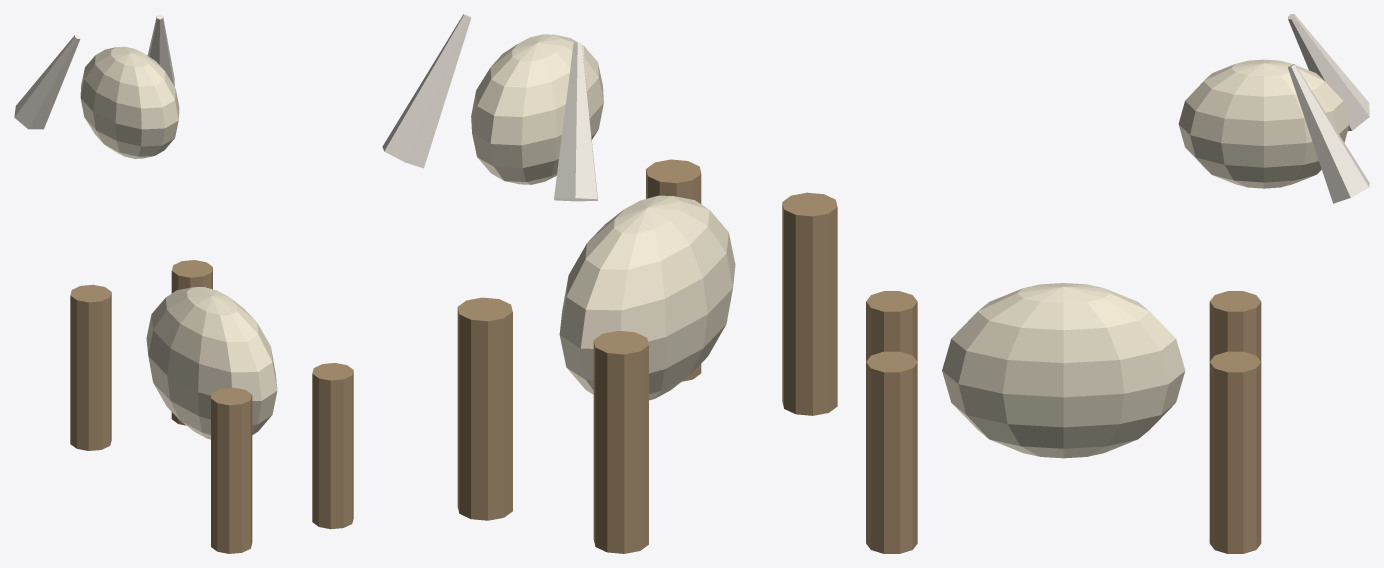
File: domba.glb
The picture shows the model from 3 angles, left to right: view 1: azimuth 30°, elevation 25°; view 2: azimuth 150°, elevation 25°; view 3: azimuth 270°, elevation 25°; orthographic projection. The views are drawn at different scales.
Parts seen in each view (by area): view 1: domba_body, domba_head, domba_leg_FL, domba_leg_BR, domba_leg_BL, domba_tanduk_kanan, domba_leg_FR, domba_tanduk_kiri; view 2: domba_body, domba_head, domba_leg_FR, domba_leg_BL, domba_leg_FL, domba_tanduk_kiri, domba_tanduk_kanan, domba_leg_BR; view 3: domba_body, domba_head, domba_leg_FR, domba_leg_BR, domba_tanduk_kiri, domba_leg_FL, domba_leg_BL, domba_tanduk_kanan.
Boxes of the visible parts, x1,y1,x2,y2 form: domba_body: [146, 287, 277, 439]; domba_head: [80, 46, 179, 158]; domba_leg_FL: [70, 284, 111, 450]; domba_leg_BR: [312, 363, 353, 529]; domba_leg_BL: [211, 387, 252, 553]; domba_tanduk_kanan: [14, 34, 80, 129]; domba_leg_FR: [171, 260, 212, 425]; domba_tanduk_kiri: [147, 14, 174, 86]; domba_body: [559, 195, 735, 400]; domba_head: [471, 34, 603, 184]; domba_leg_FR: [457, 297, 512, 520]; domba_leg_BL: [782, 192, 837, 415]; domba_leg_FL: [593, 330, 648, 553]; domba_tanduk_kiri: [382, 14, 471, 168]; domba_tanduk_kanan: [554, 42, 597, 201]; domba_leg_BR: [646, 159, 701, 381]; domba_body: [942, 283, 1185, 458]; domba_head: [1178, 59, 1349, 188]; domba_leg_FR: [1209, 351, 1261, 553]; domba_leg_BR: [866, 351, 917, 553]; domba_tanduk_kiri: [1288, 64, 1369, 203]; domba_leg_FL: [1209, 291, 1261, 361]; domba_leg_BL: [866, 291, 917, 361]; domba_tanduk_kanan: [1288, 14, 1369, 130].
Size of the model in its own units: 0.7902 by 1.83 by 1.76.
